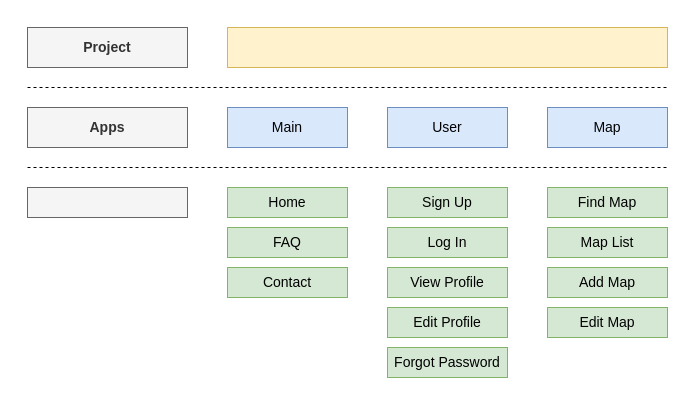
Some shapes in this 694 by 404 pixel diagram are drawn without their labels. Here are the shapes that lost their labels. From the top down, the centre of each, then its label:
At (447,47): "OpenRA Resource Center".
At (107,202): "Features".
